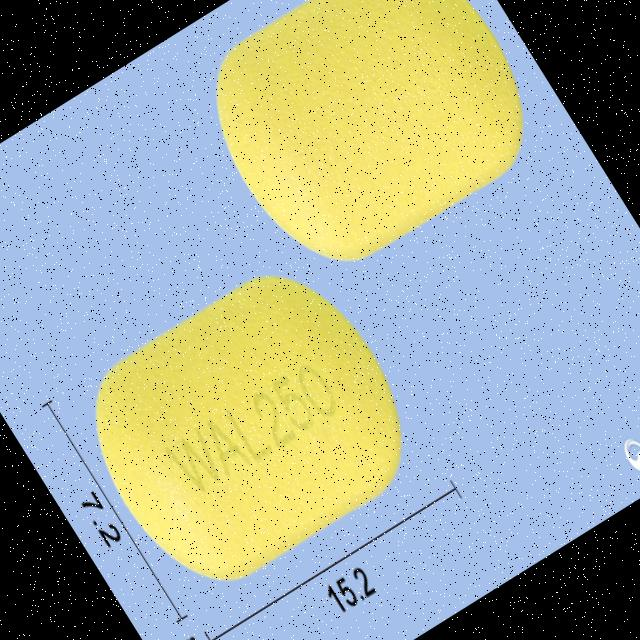Clotin: (58, 243, 436, 609), (179, 0, 558, 291)
